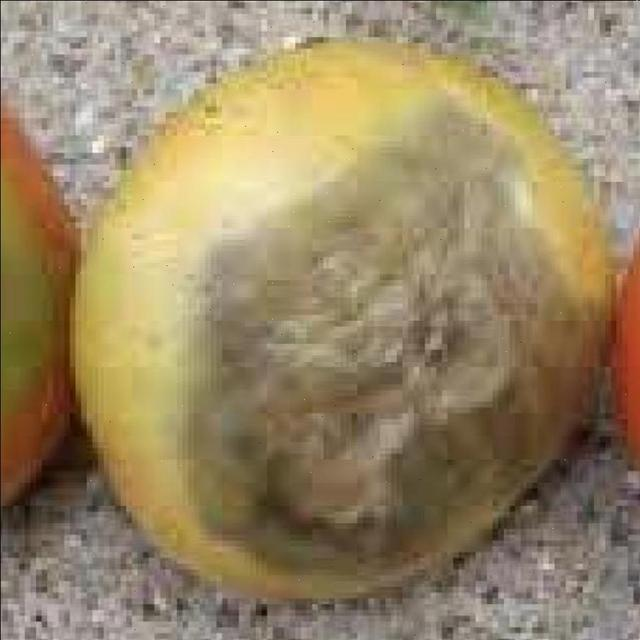Blossom End Rot Fruit: (108, 57, 392, 385)
